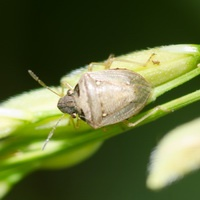insect: (28, 56, 152, 127)
